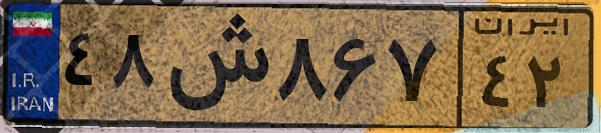2: (525, 38, 570, 115)
4: (57, 26, 110, 100), (475, 38, 525, 113)
6: (330, 28, 385, 110)
7: (385, 28, 445, 110)
8: (270, 28, 330, 110), (110, 28, 158, 98)
ش: (158, 12, 270, 120)
